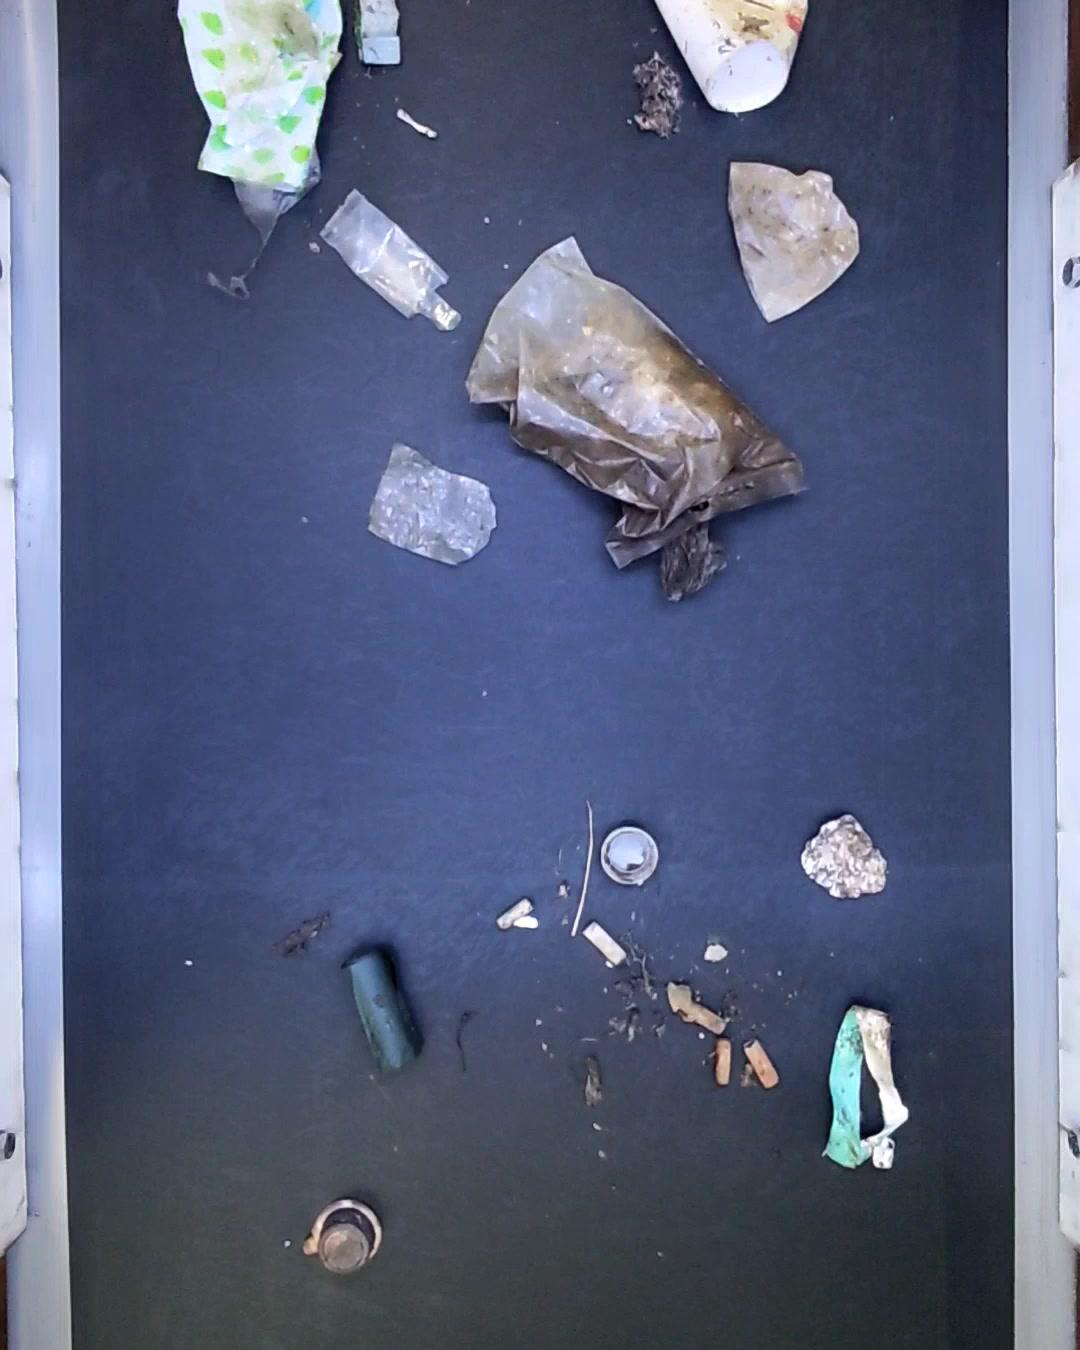Plastic folies of stukken daarvan 2.5- 50 cm: (466, 230, 813, 600), (724, 158, 868, 328), (316, 188, 468, 334), (368, 440, 499, 572)
Voedselverpakkingen: (302, 1200, 384, 1276)
